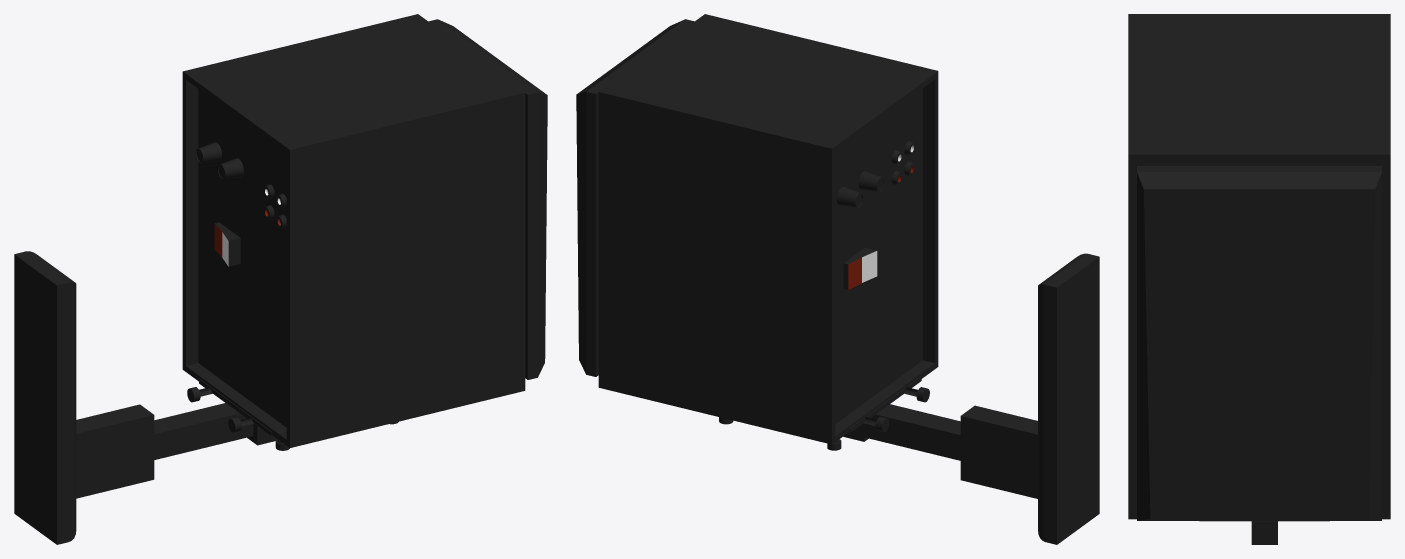
Rendered from ParlanteL1_JuanR_47170552.fbx.
3 views of the same model, side by side, from view 1: azimuth 30°, elevation 25°; view 2: azimuth 150°, elevation 25°; view 3: azimuth 270°, elevation 25° (orthographic). The views are drawn at different scales.
Parts seen in each view (by area): view 1: Rectangulo plastico principal; view 2: Rectangulo plastico principal; view 3: Rectangulo plastico principal.
Part boxes in pixels (<box>): Rectangulo plastico principal: <box>14,14,547,544</box>; Rectangulo plastico principal: <box>576,14,1099,544</box>; Rectangulo plastico principal: <box>1128,14,1390,544</box>.
Bounding box in the file's own units: 37.28 × 28.73 × 15.
Materials: 1 (1 with a texture image).
